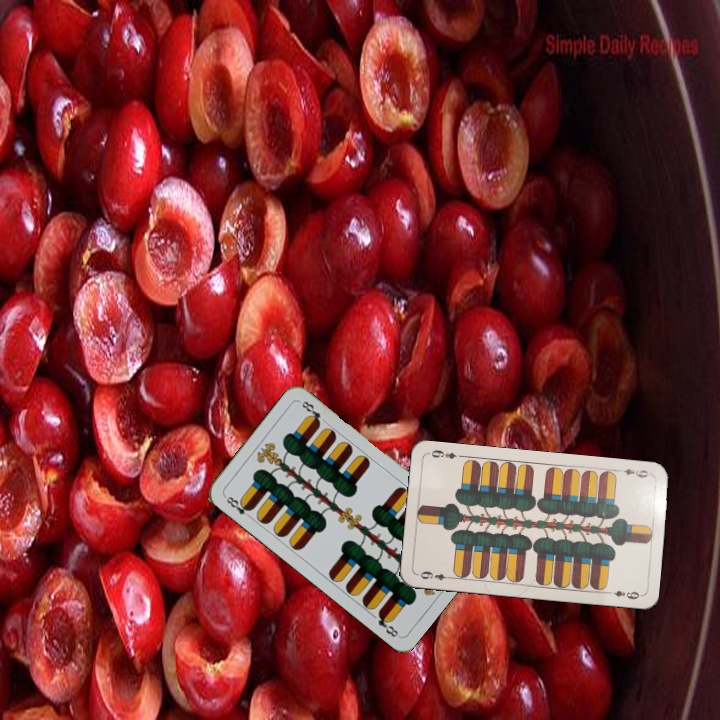E8: (221, 491, 255, 521)
E9: (414, 567, 455, 583), (613, 465, 654, 480)
